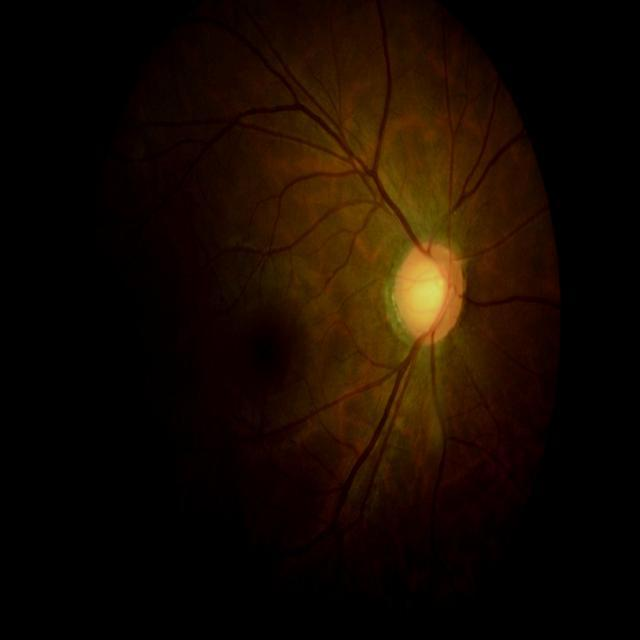cup: (403, 254, 458, 330)
disk: (393, 240, 465, 346)
